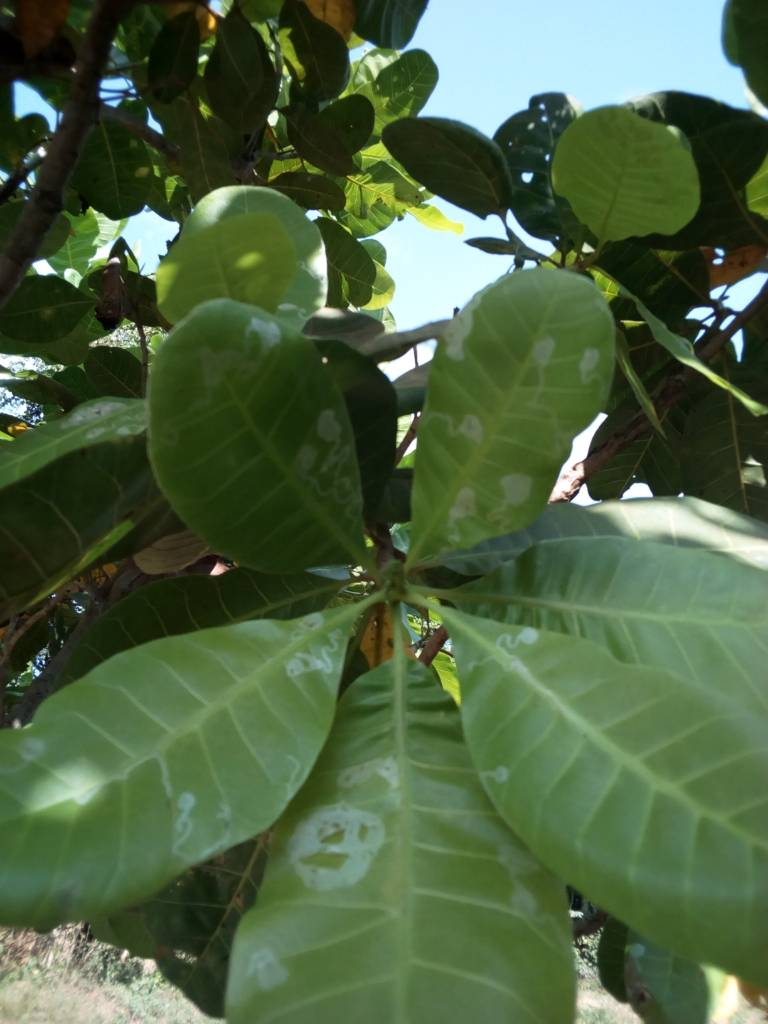Virose: (235, 608, 547, 1024), (1, 611, 341, 917), (405, 274, 615, 566), (152, 302, 369, 572)
